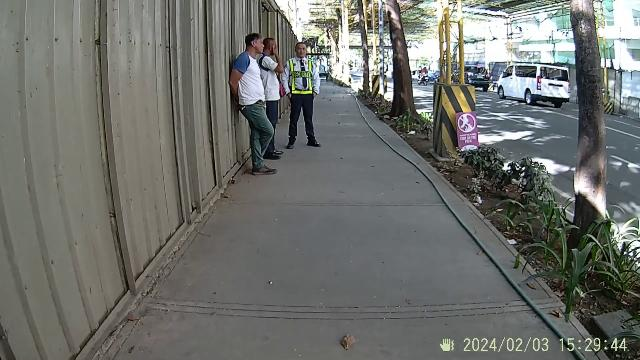construction_materials: (434, 0, 478, 156)
